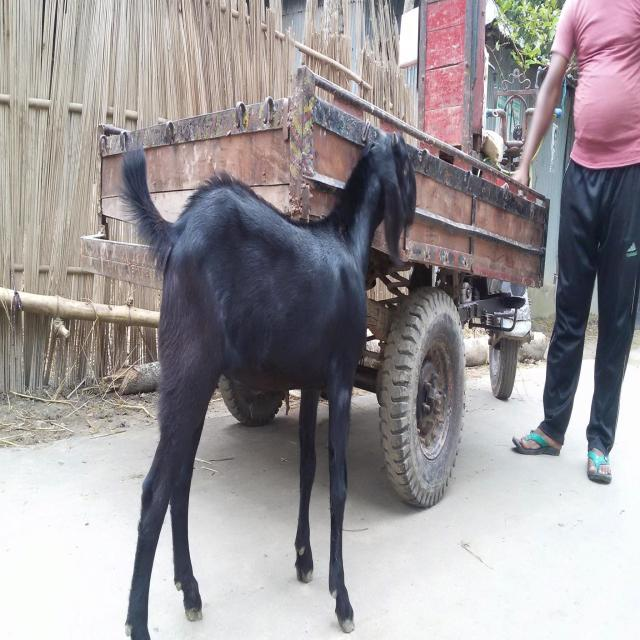Goat: (117, 127, 417, 637)
